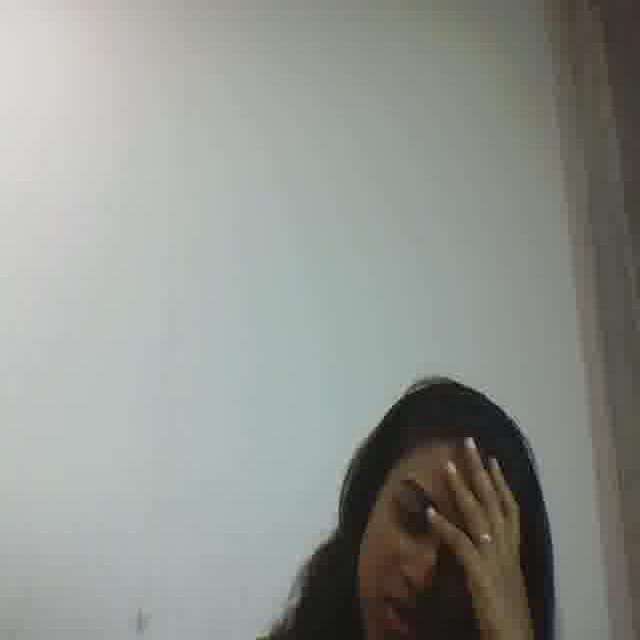Boredom: (351, 441, 473, 640)
